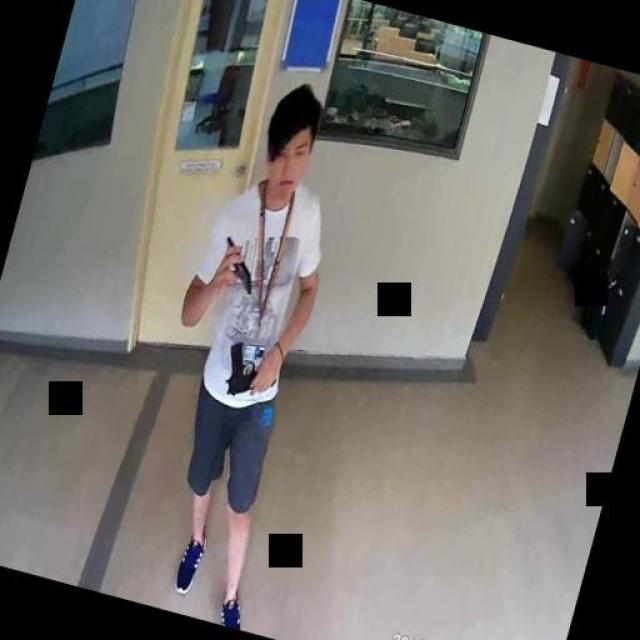gun: (218, 338, 282, 403)
